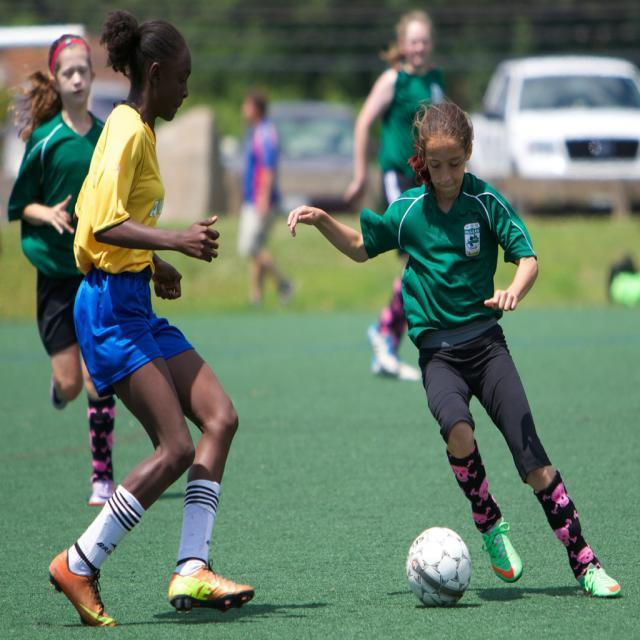football: (393, 516, 479, 612)
